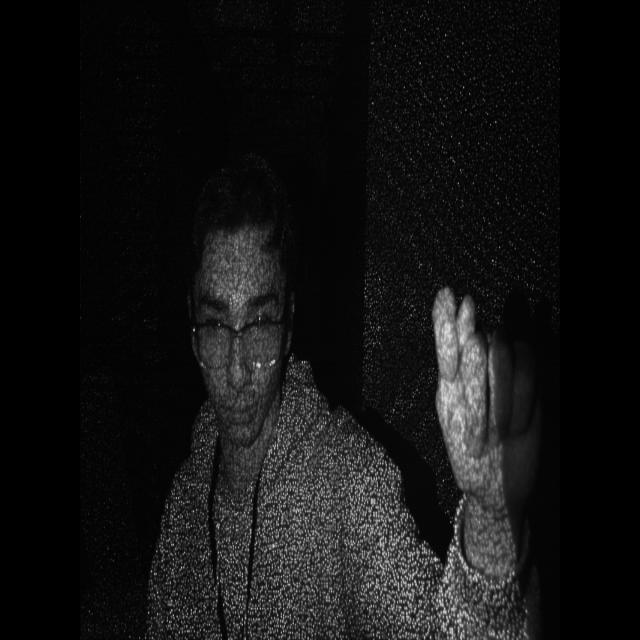T: (418, 270, 557, 532)
